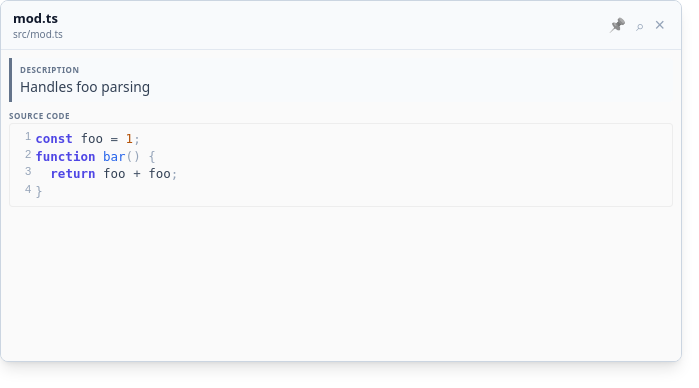
Scenario: find-in-frame › searches description and code in a document frame
Press f
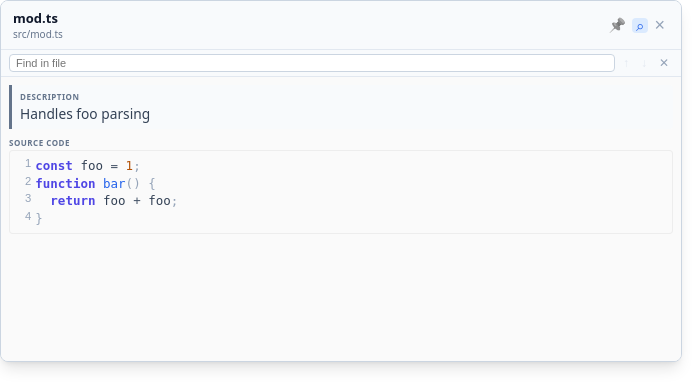
Type "foo" into the field with class "symbol-widget__find-input" at (312, 63), box [9,54,615,72]
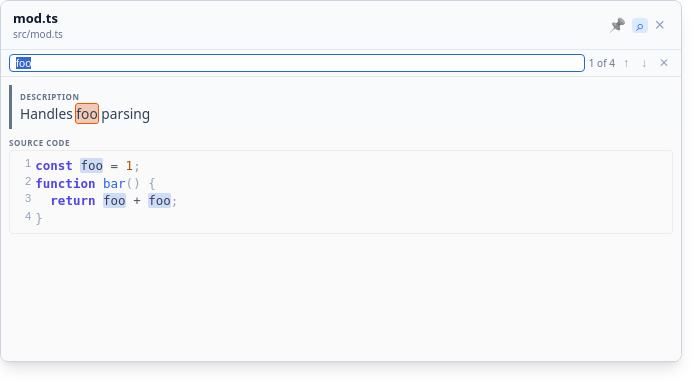
expect the element with class "hl-match" is shown: met, box [1,77,681,242]
expect the number of elements with class "hl-match" is 4: met, box [76,104,98,123]; [80,158,103,173]; [103,193,126,208]; [148,193,171,208]
expect the text with class "symbol-widget__find-counter" reads "1 of 4": met, box [589,56,615,70]
